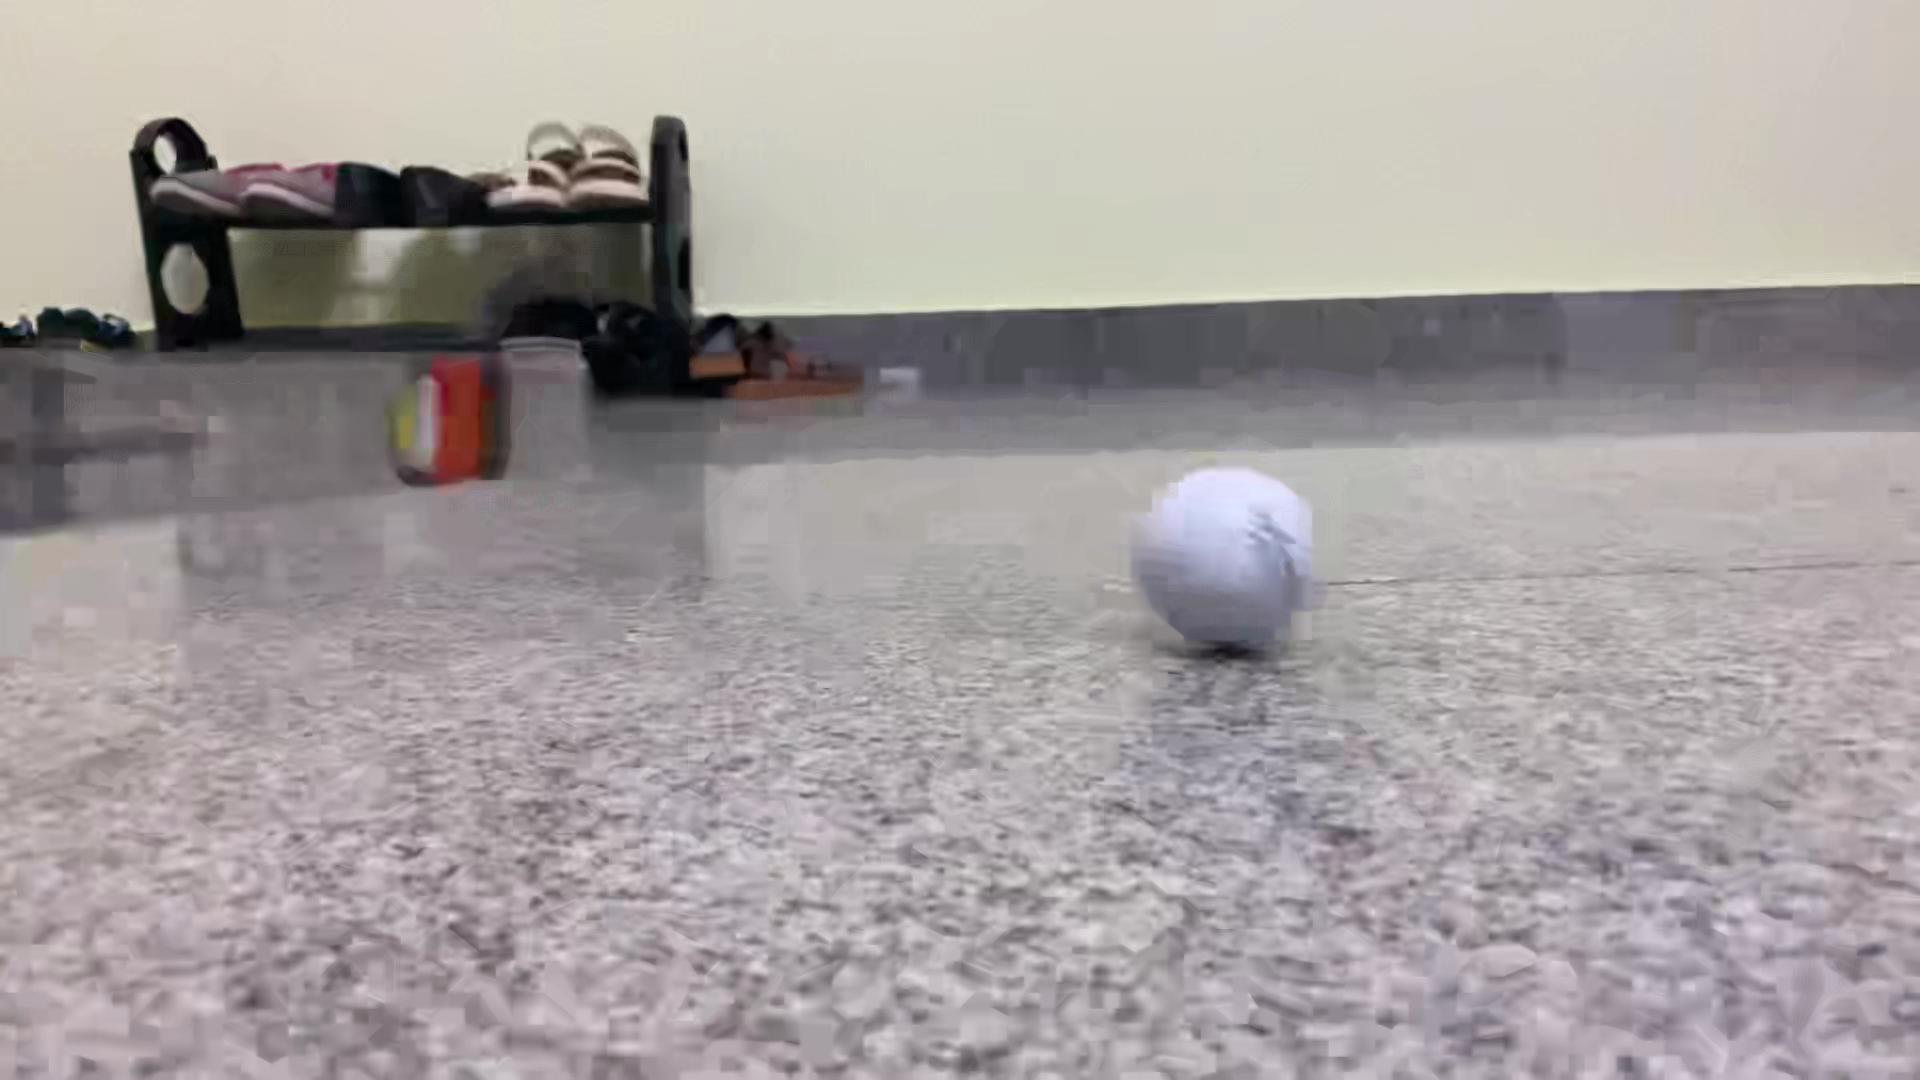golfball: (1129, 470, 1320, 649)
